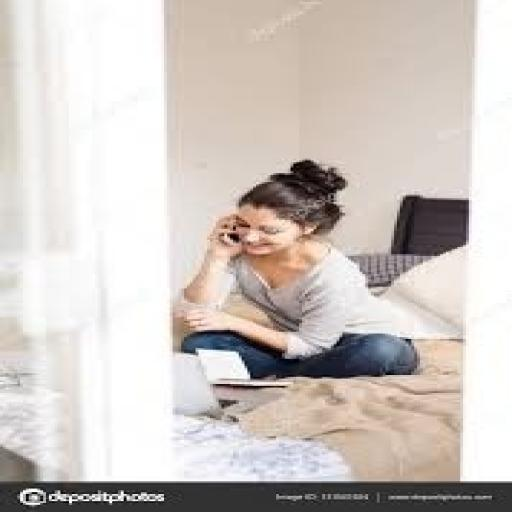calling: (172, 157, 422, 380)
